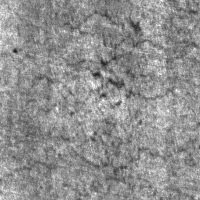crazing: (65, 9, 199, 106), (2, 119, 126, 170), (112, 145, 199, 200)
